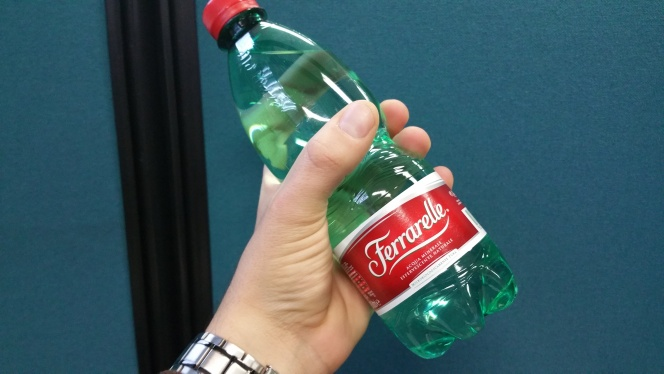bottle: (198, 1, 521, 360)
